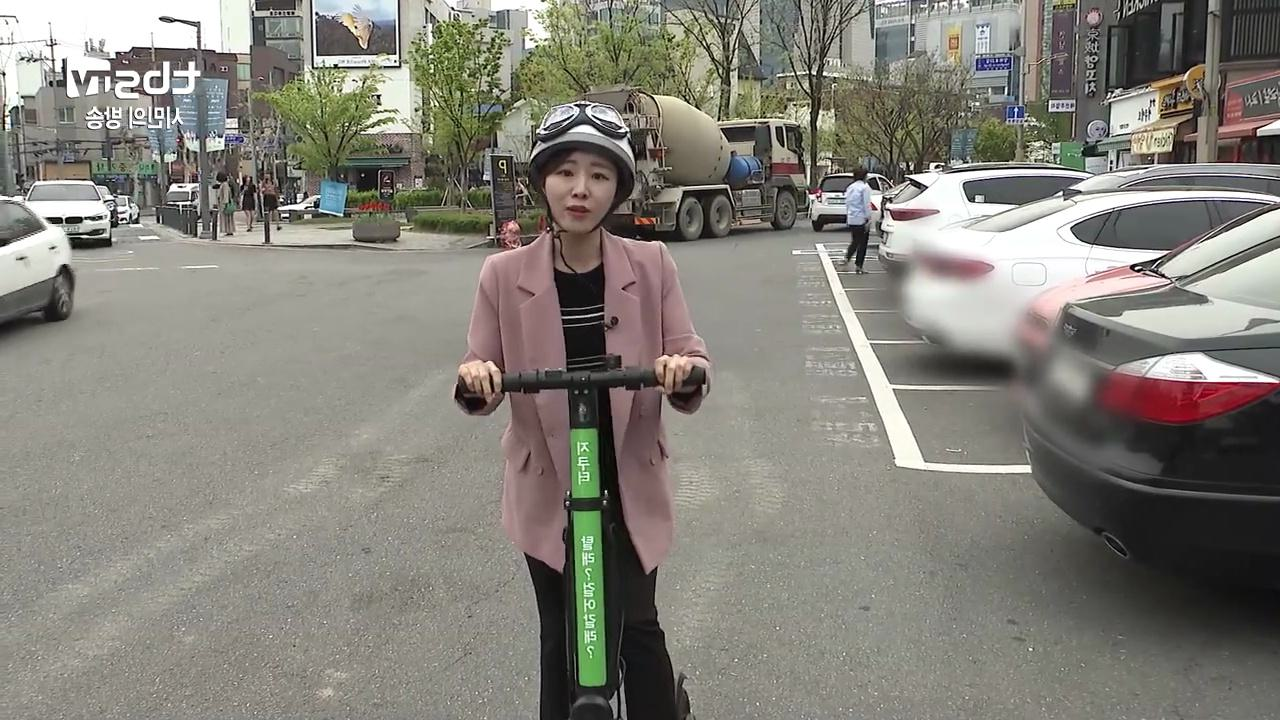helmet: (450, 99, 714, 720)
